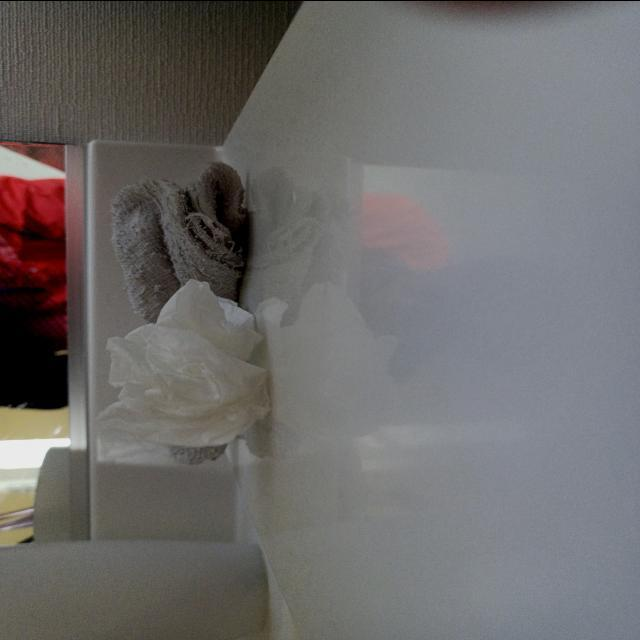Paper: (87, 277, 278, 463)
